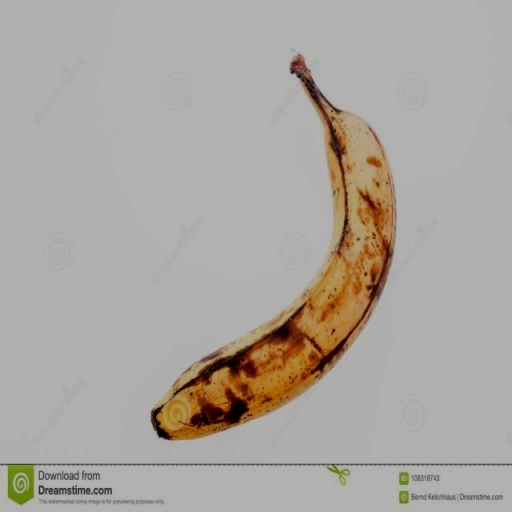fruit: (152, 56, 395, 439)
